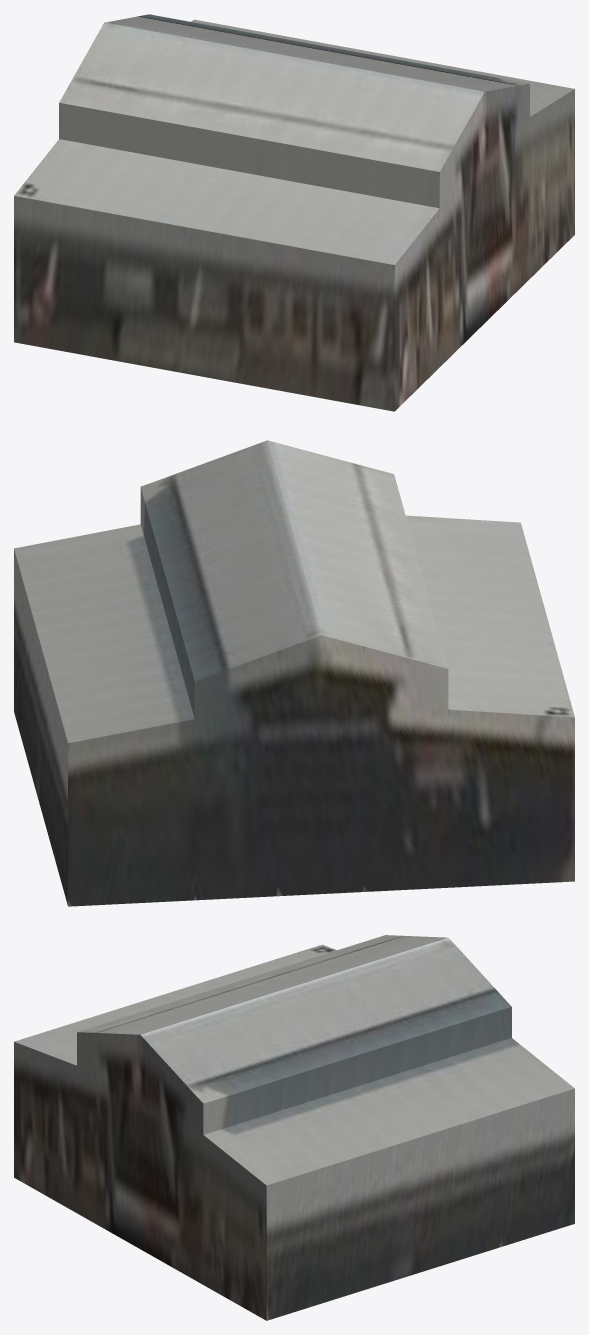
The picture shows the model from 3 angles, top to bottom: view 1: azimuth 30°, elevation 25°; view 2: azimuth 150°, elevation 25°; view 3: azimuth 270°, elevation 25°; orthographic projection. The views are drawn at different scales.
Visible parts, largest first — view 1: Z_UP; view 2: Z_UP; view 3: Z_UP.
Part boxes in pixels (left/top/right/bottom): Z_UP: left=14, top=14, right=574, bottom=411; Z_UP: left=14, top=440, right=574, bottom=906; Z_UP: left=14, top=935, right=574, bottom=1320.
Size of the model in its own units: 18.96 by 7.89 by 18.7.
5 materials, 4 textured.
